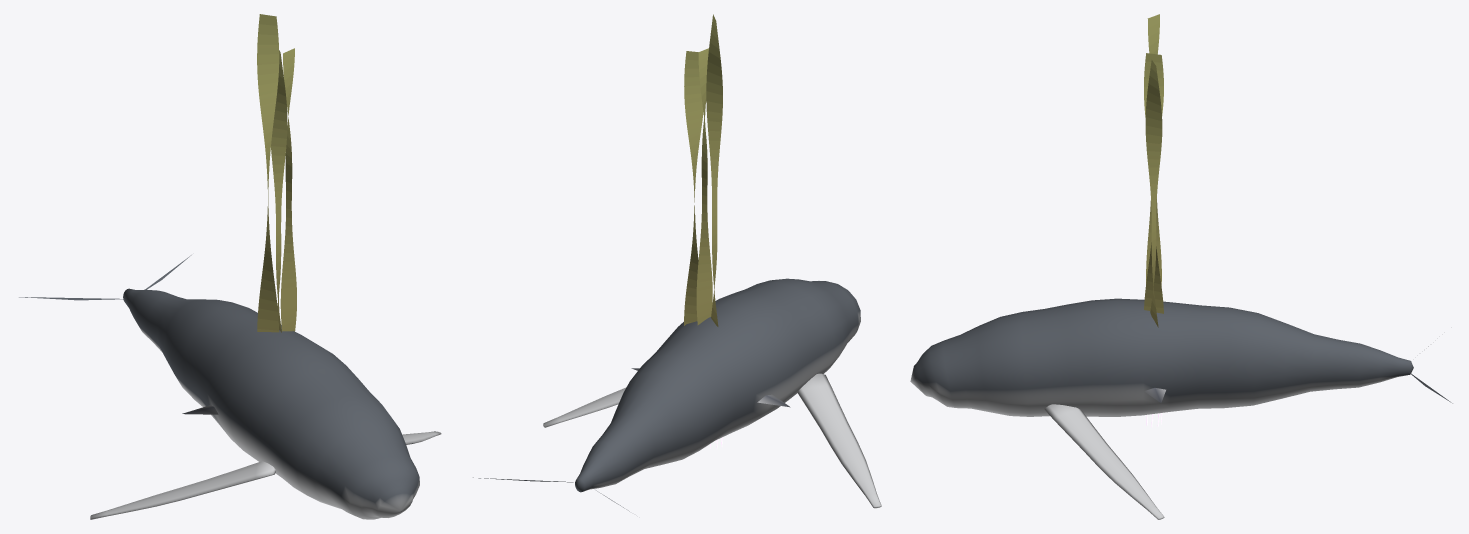
Rendered from props.glb.
The picture shows the model from 3 angles, left to right: view 1: azimuth 30°, elevation 25°; view 2: azimuth 150°, elevation 25°; view 3: azimuth 270°, elevation 25°; orthographic projection. The views are drawn at different scales.
Parts seen in each view (by area): view 1: KEEP Whale, KEEP Kelp; view 2: KEEP Whale, KEEP Kelp; view 3: KEEP Whale, KEEP Kelp.
Boxes of the visible parts, x1,y1,x2,y2 form: KEEP Whale: (19, 255, 441, 519); KEEP Kelp: (257, 14, 296, 332); KEEP Whale: (473, 278, 881, 511); KEEP Kelp: (684, 14, 722, 326); KEEP Whale: (910, 298, 1452, 519); KEEP Kelp: (1144, 14, 1163, 327).
Size of the model in its own units: 10.15 by 12.82 by 14.84.
